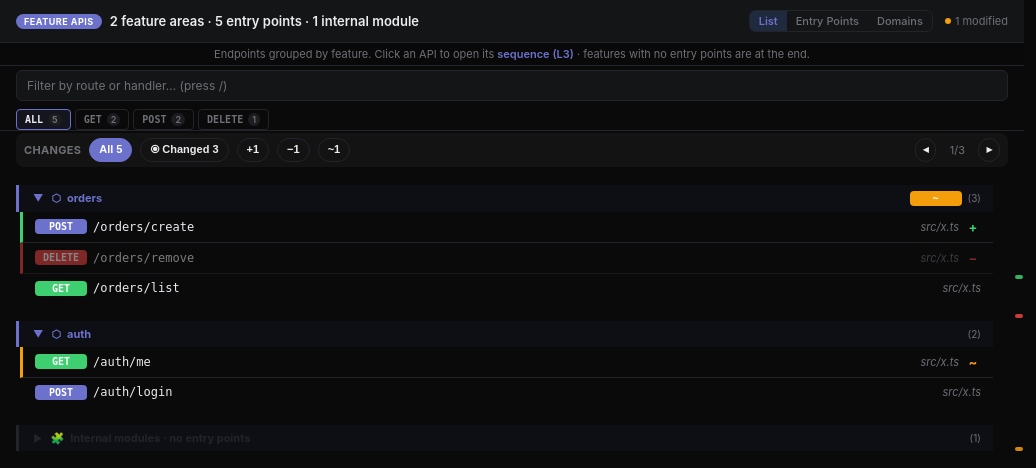
search + method filtering (L2b parity) › the search box filters rows by route text (debounced)
Step 1. Type "auth" into the field with test id "feature-api-search" → [512, 86], box [16,70,1008,101]
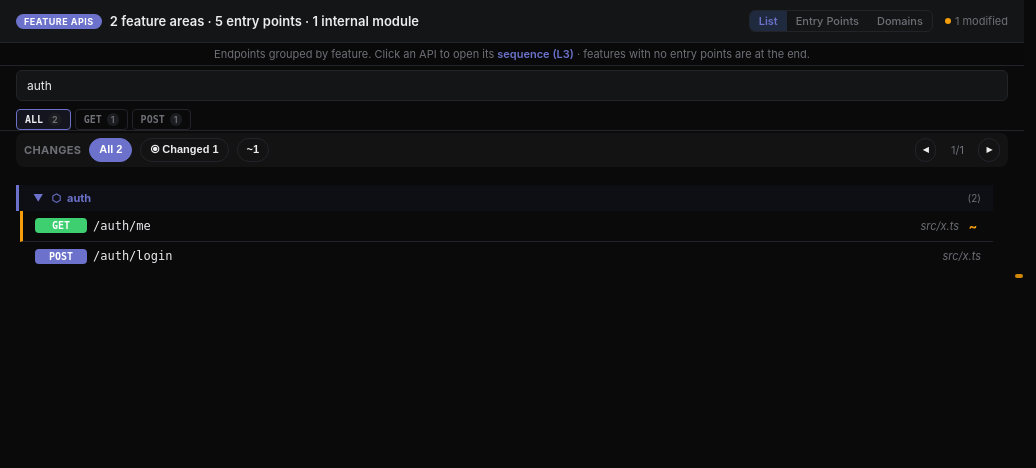
Expected: the text "/auth/login" is shown, [93,249,172,263]
Now the button "/orders/list" is gone
Now the button "/orders/create" is gone
